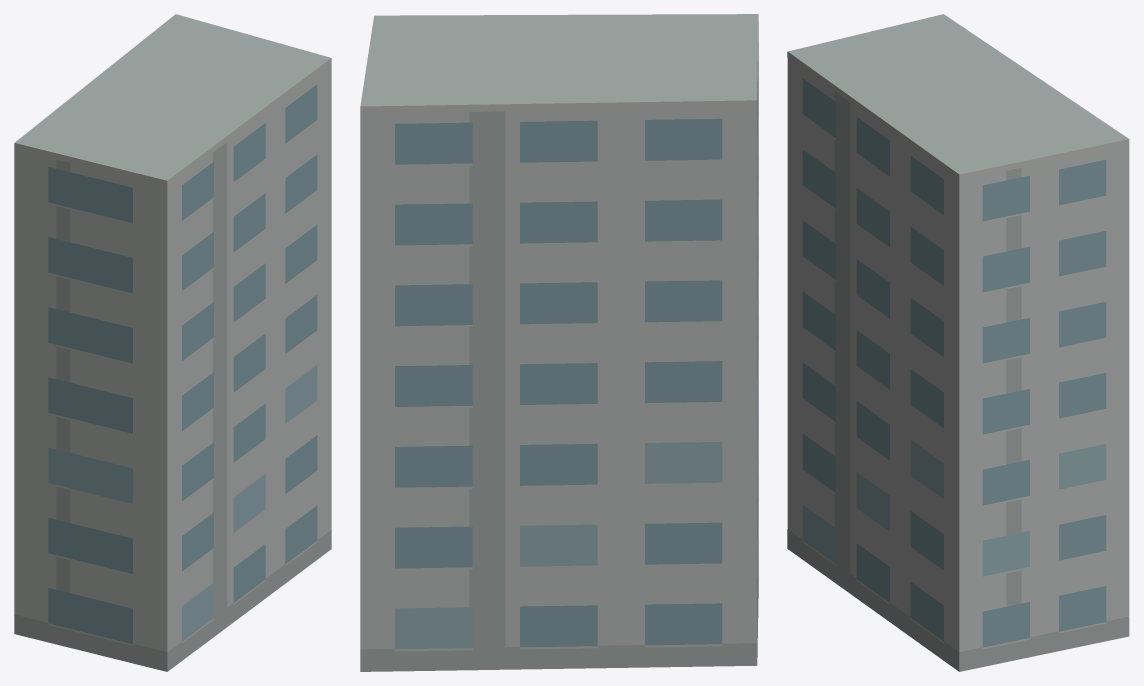
The model's file is survey-upis-32769193.glb.
3 views of the same model, side by side, from view 1: azimuth 30°, elevation 25°; view 2: azimuth 150°, elevation 25°; view 3: azimuth 270°, elevation 25° (orthographic). The views are drawn at different scales.
Visible parts, largest first — view 1: survey-upis-32769193.tmp; view 2: survey-upis-32769193.tmp; view 3: survey-upis-32769193.tmp.
Boxes of the visible parts, bbox=[...] form: survey-upis-32769193.tmp: bbox=[14, 14, 331, 671]; survey-upis-32769193.tmp: bbox=[360, 14, 758, 671]; survey-upis-32769193.tmp: bbox=[787, 14, 1129, 671].
Bounding box in the file's own units: 13.79 × 19.9 × 12.4.
